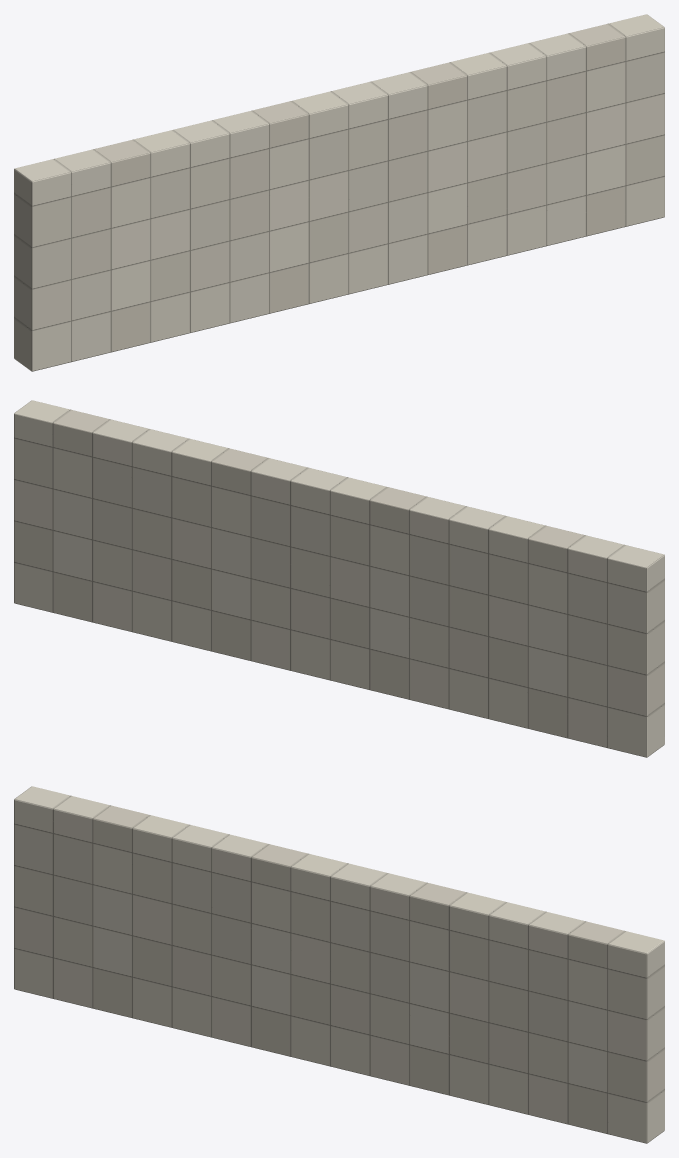
File: MOD_10_LowDivider.glb
The picture shows the model from 3 angles, top to bottom: view 1: azimuth 30°, elevation 25°; view 2: azimuth 150°, elevation 25°; view 3: azimuth 330°, elevation 25°; orthographic projection.
Visible parts, largest first — view 1: MOD_10_LowDivider_Export; view 2: MOD_10_LowDivider_Export; view 3: MOD_10_LowDivider_Export.
Boxes of the visible parts, x1,y1,x2,y2 form: MOD_10_LowDivider_Export: (14,14,664,371); MOD_10_LowDivider_Export: (14,400,664,757); MOD_10_LowDivider_Export: (14,786,664,1143).
Bounding box in the file's own units: 4 × 1.15 × 0.2.
Materials: 1 (1 with a texture image).
